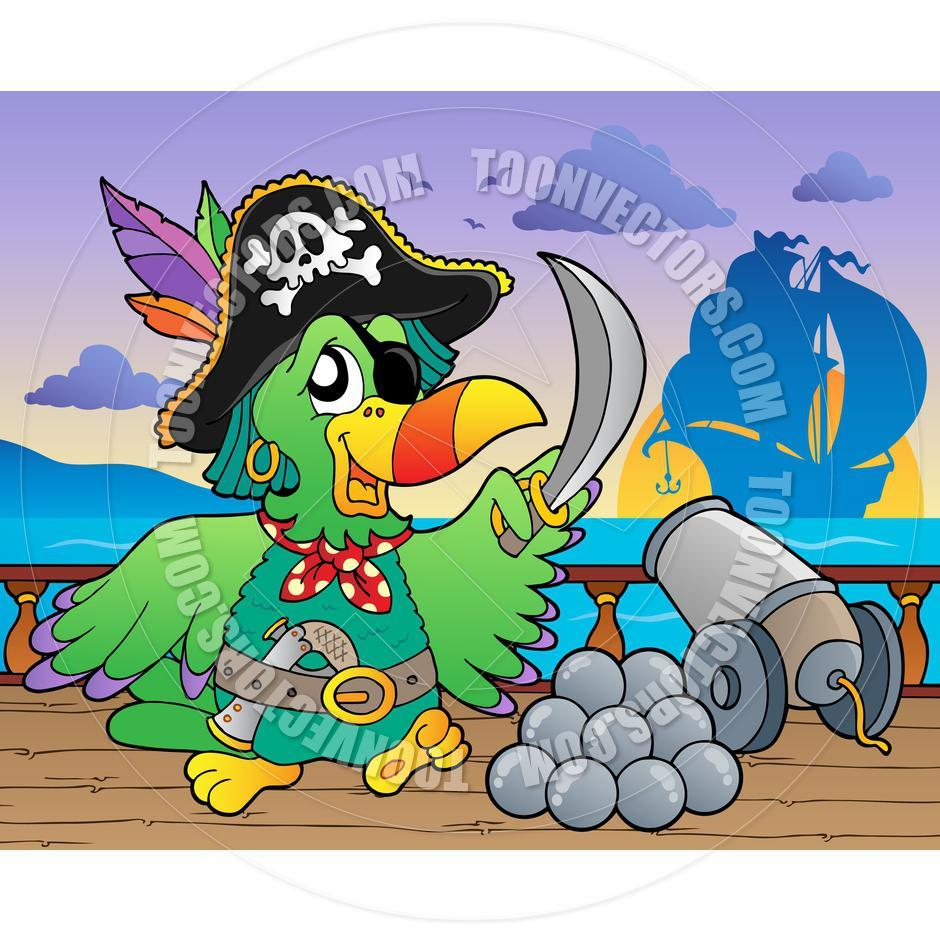bird: (39, 301, 527, 810)
boat: (630, 233, 928, 520)
